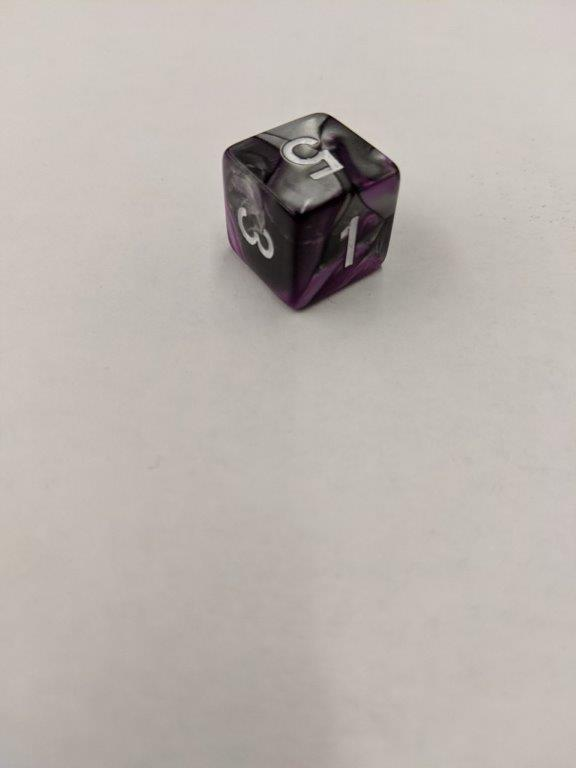d6-5: (224, 111, 406, 312)
